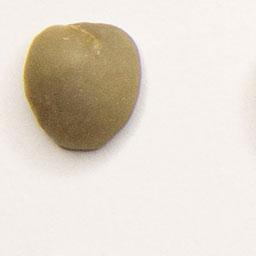premium: (21, 20, 145, 155)
